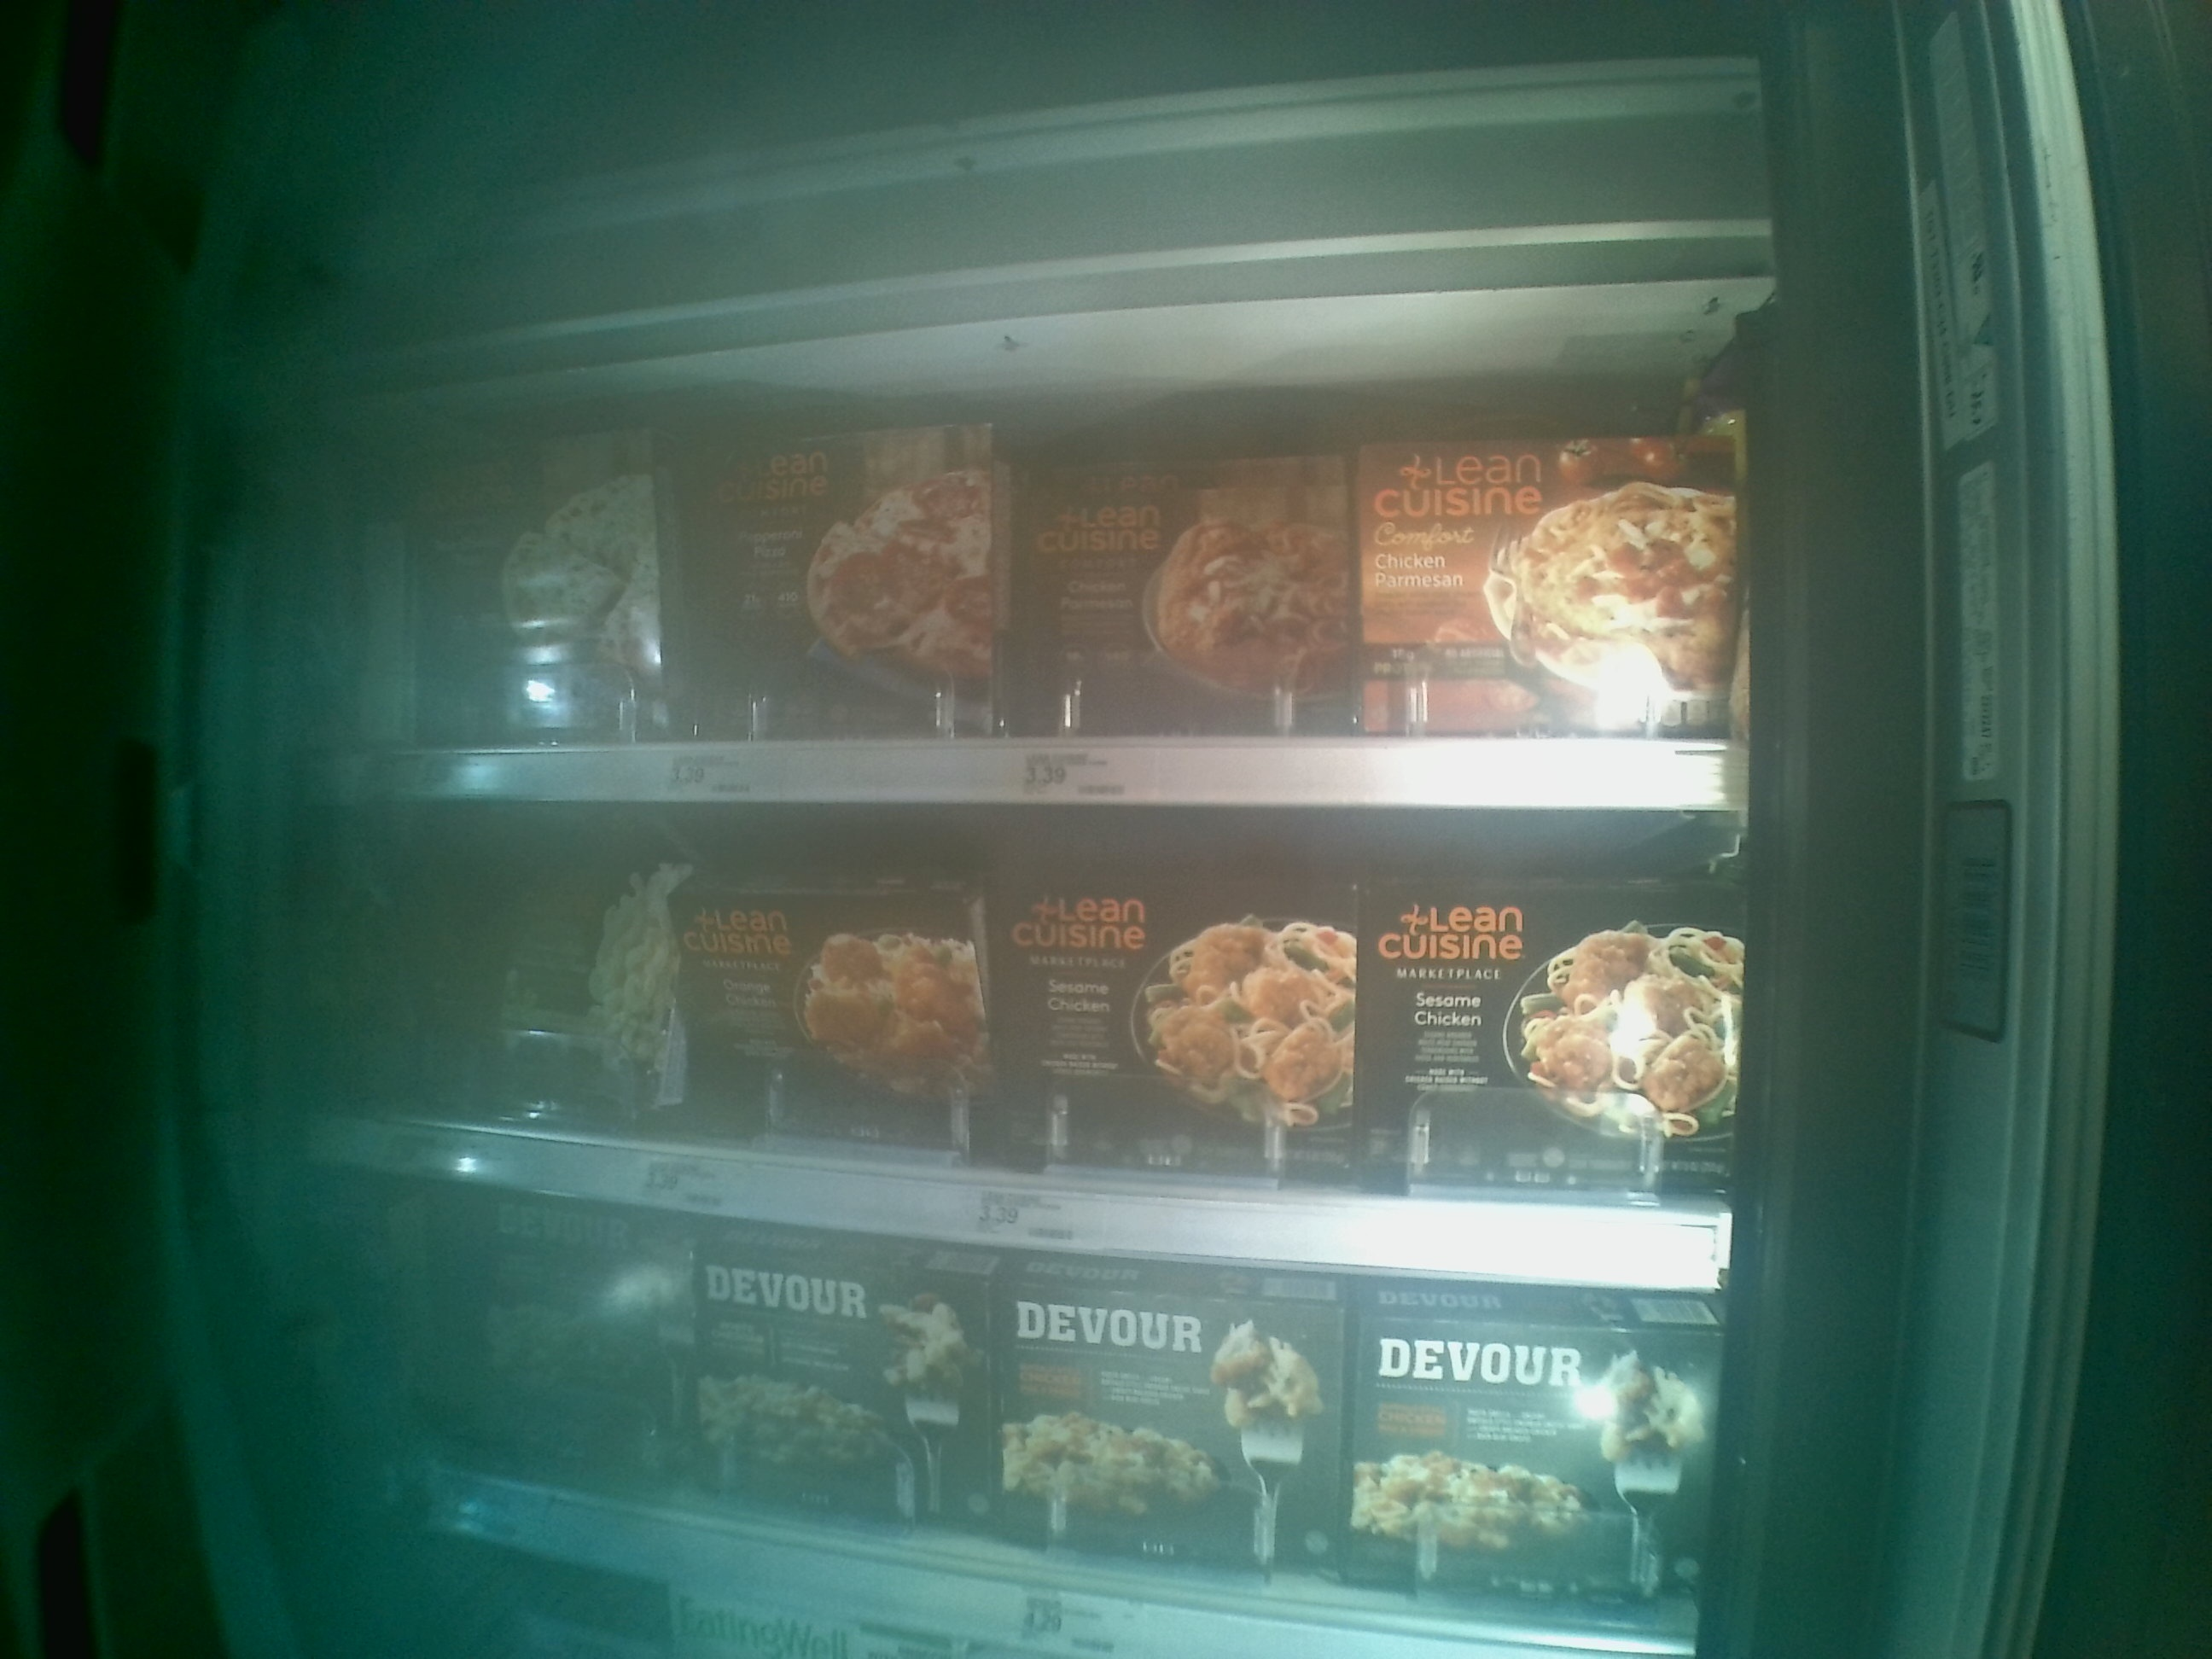shelf: (359, 282, 1752, 809), (331, 802, 1726, 1297)
